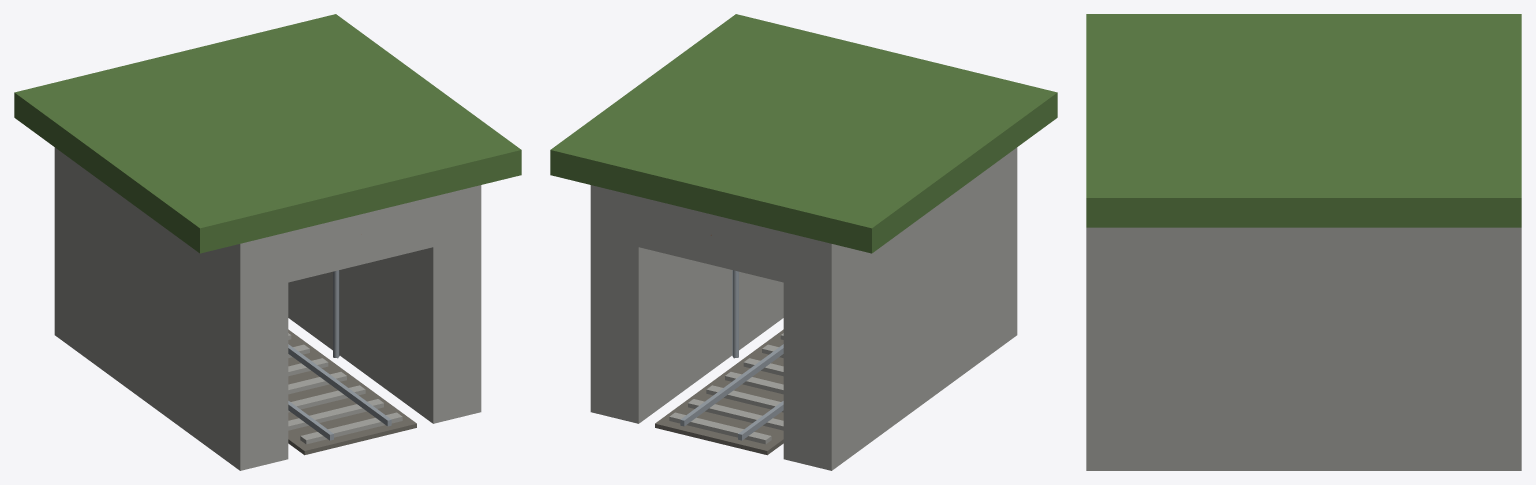
Rendered from road_rail_viii_tunnel.glb.
3 renders of one model, left to right at view 1: azimuth 30°, elevation 25°; view 2: azimuth 150°, elevation 25°; view 3: azimuth 270°, elevation 25°, orthographic. The views are drawn at different scales.
Parts seen in each view (by area): view 1: body; view 2: body; view 3: body.
Part boxes in pixels (bbox=[...]): body: bbox=[14, 14, 521, 470]; body: bbox=[550, 14, 1057, 470]; body: bbox=[1086, 14, 1521, 470].
Size of what is drawn, in the model's own units: 8 by 6 by 8.
